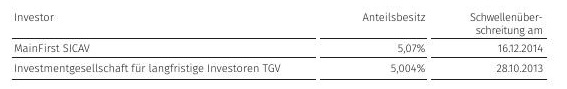table: (0, 0, 567, 89)
